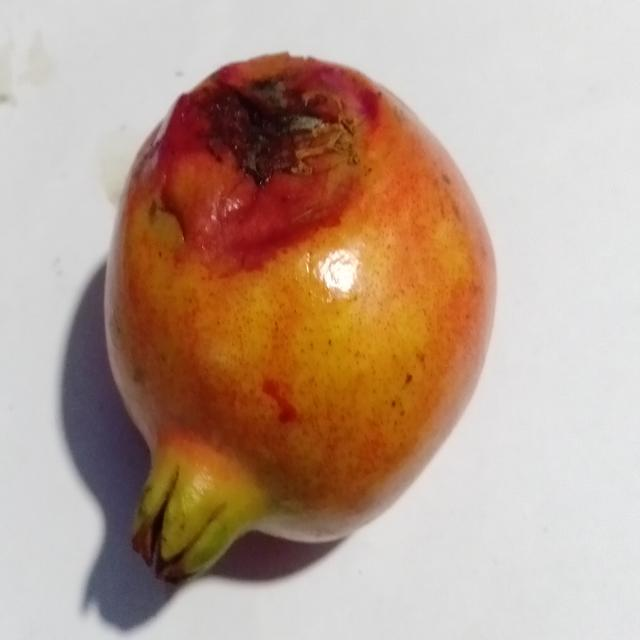Rotten: (100, 50, 503, 596)
